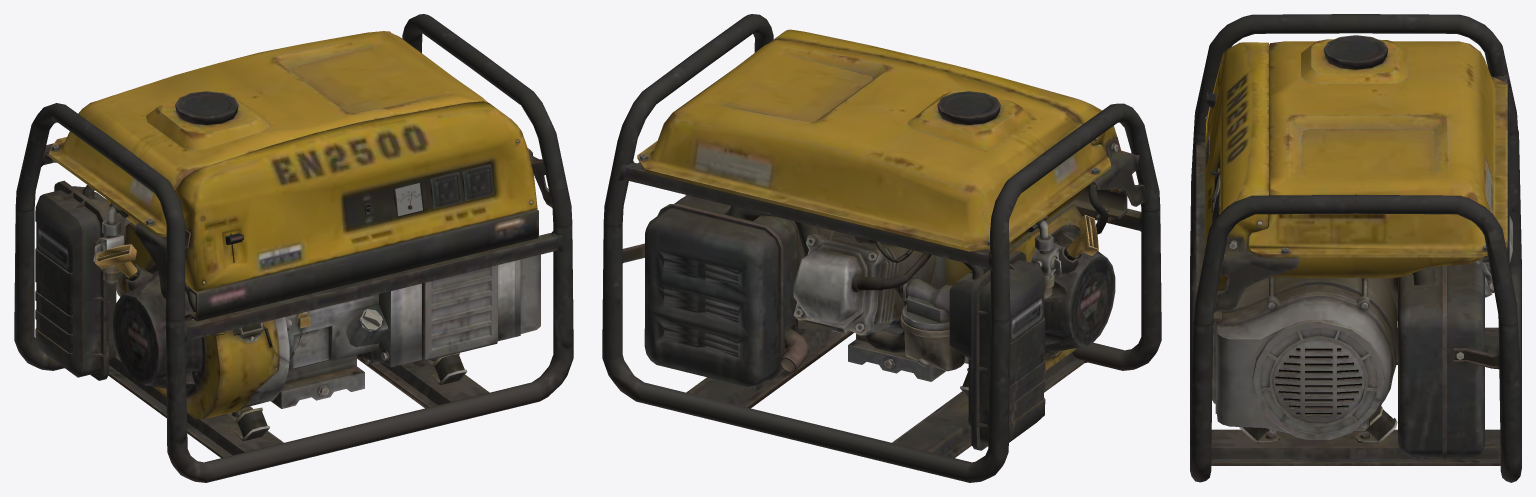
Rendered from portable_generator.glb.
The picture shows the model from 3 angles, left to right: view 1: azimuth 30°, elevation 25°; view 2: azimuth 150°, elevation 25°; view 3: azimuth 270°, elevation 25°; orthographic projection.
Parts seen in each view (by area): view 1: portable_generator; view 2: portable_generator; view 3: portable_generator.
Part boxes in pixels (x1,y1,x2,y2): portable_generator: [14, 14, 573, 482]; portable_generator: [602, 14, 1161, 482]; portable_generator: [1190, 14, 1521, 482].
Bounding box in the file's own units: 0.8169 × 0.5752 × 0.564.
2 materials, 2 textured.
